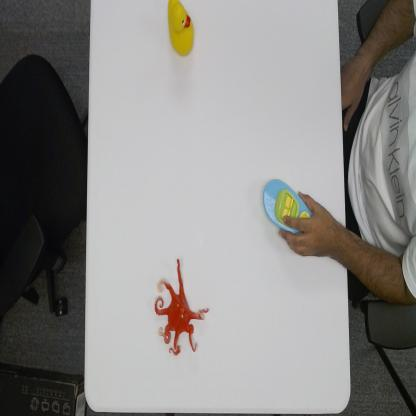Boat: (262, 176, 312, 234)
Duck: (166, 0, 195, 58)
Hand: (278, 191, 335, 260)
Octopus: (153, 256, 210, 357)
